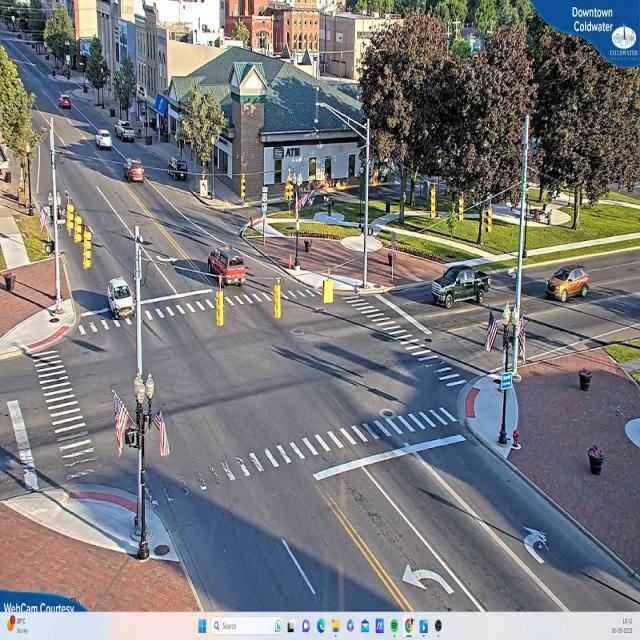car: (439, 263, 485, 303), (544, 268, 588, 304), (209, 249, 247, 289), (108, 279, 133, 324), (123, 161, 144, 183), (95, 130, 112, 150), (59, 95, 72, 110)
